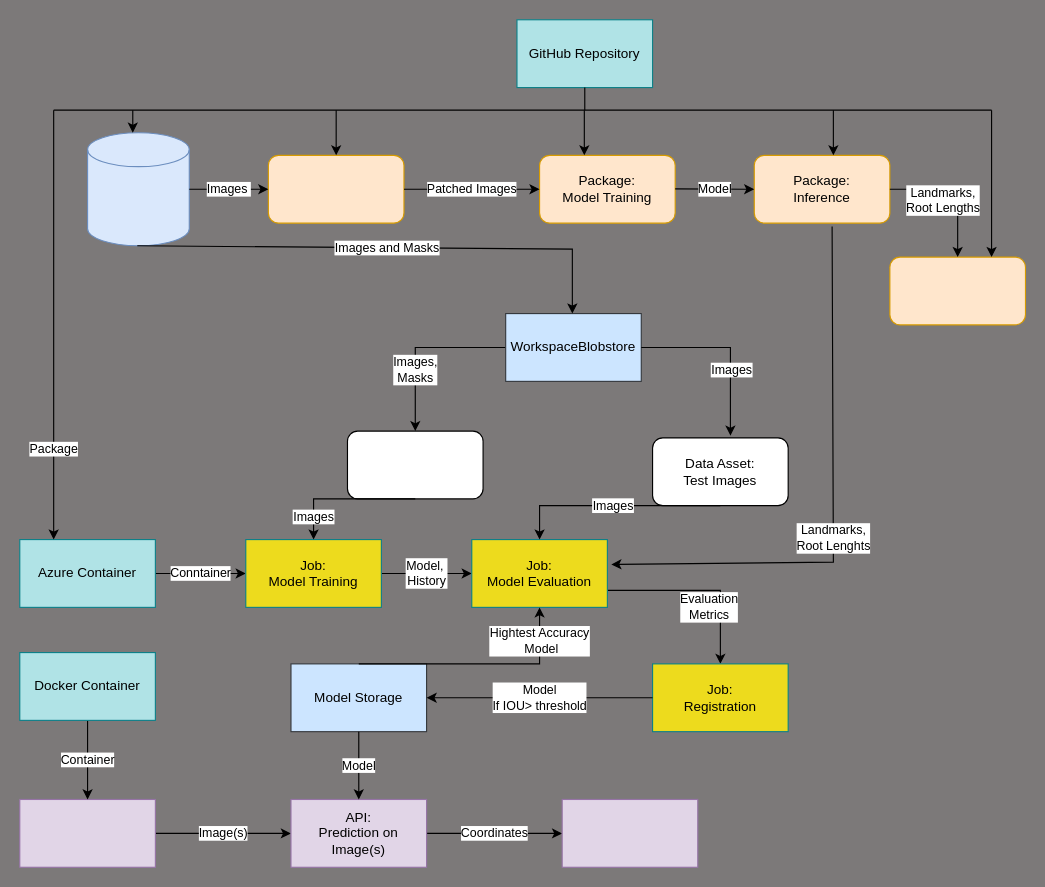
Image size: 1045x887. Some labels were removed from this diagram. The shapes that lost their labels are listed below. From the top down, each one's centre as x and y in pixels, then its label:
At [137,189]: "DATA: Images/ Masks".
At [335,188]: "Package: Preprocessing".
At [957,290]: "Package: PostProcessing".
At [414,464]: "Data Asset: Training Images and Masks".
At [87,832]: "API: Input Image(s)".
At [629,832]: "API: Output Prediction".
